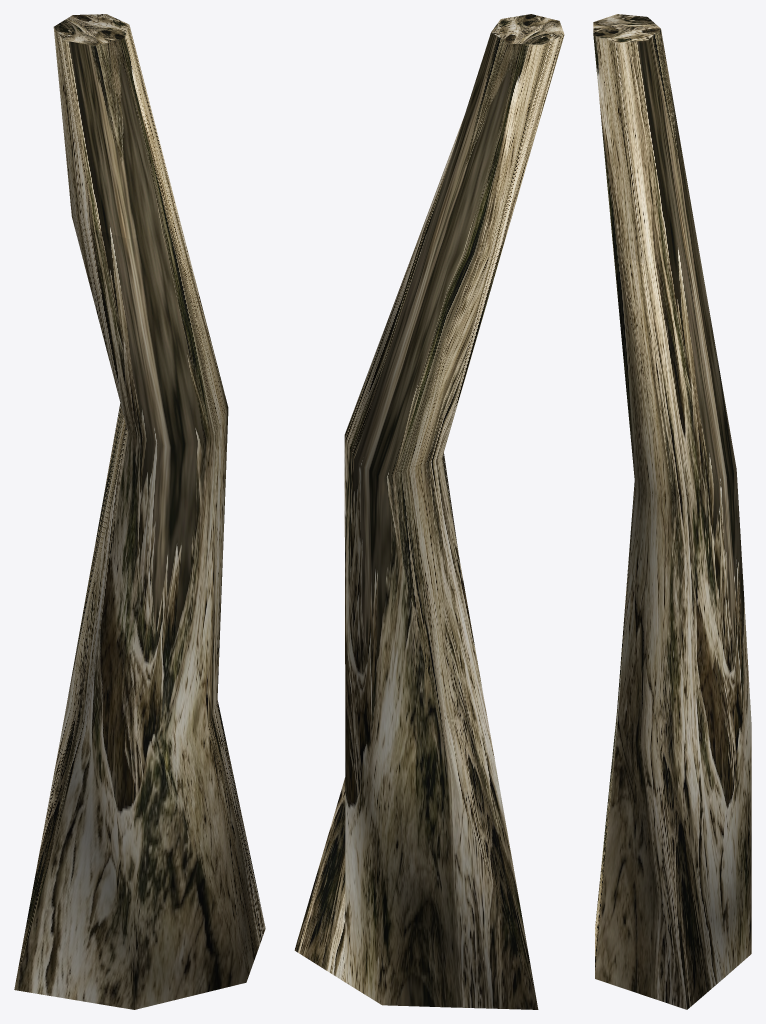
File: Bone Spear.glb
3 renders of one model, left to right at view 1: azimuth 30°, elevation 25°; view 2: azimuth 150°, elevation 25°; view 3: azimuth 270°, elevation 25°, orthographic. The views are drawn at different scales.
Visible parts, largest first — view 1: Bone Spear; view 2: Bone Spear; view 3: Bone Spear.
Part boxes in pixels (box(x1,y1,x2,y2)): Bone Spear: box(14, 14, 265, 1009); Bone Spear: box(294, 14, 564, 1009); Bone Spear: box(593, 14, 751, 1009).
Bounding box in the file's own units: 1.87 × 6.93 × 1.12.
1 material, 1 textured.
